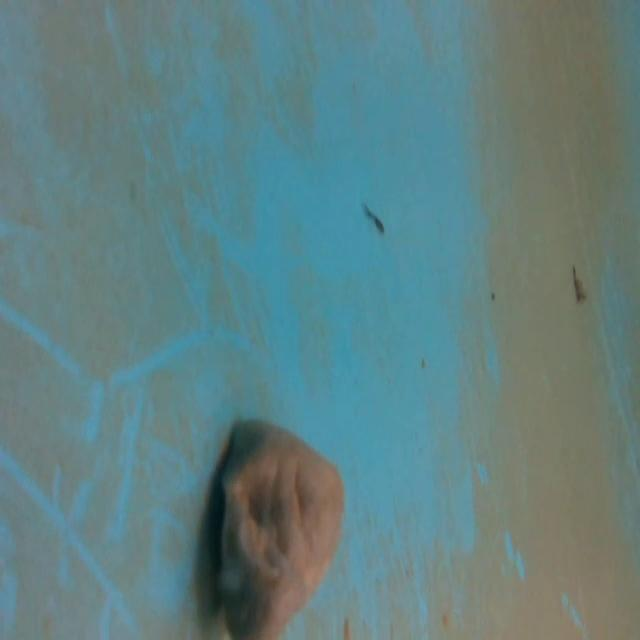rock: (207, 408, 351, 640)
